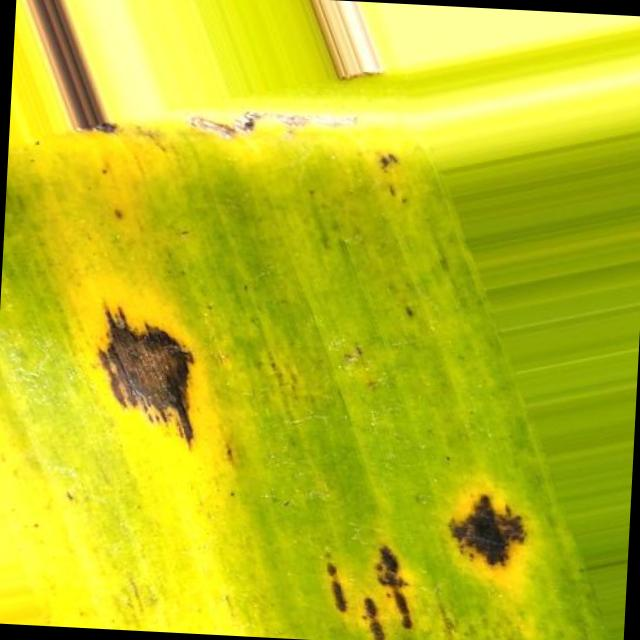Banana_Yellow_Sigatoka: (59, 236, 268, 463), (330, 452, 542, 640)
